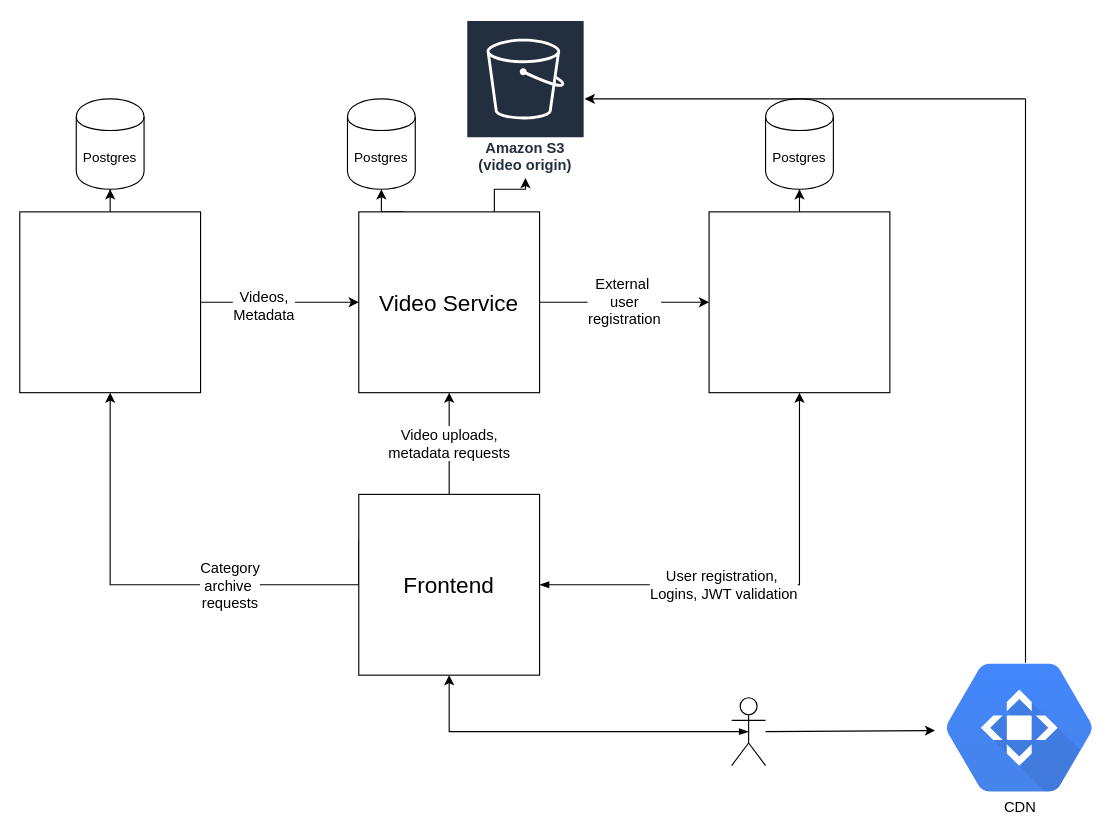
The diagram is 1112 pixels wide and 837 high, and some of its shapes have lost their labels. The centre of each missing label's shape, as x and y in pixels:
"Scheduler" goes at (110,302).
"User" goes at (748,731).
"User Service" goes at (799,302).
